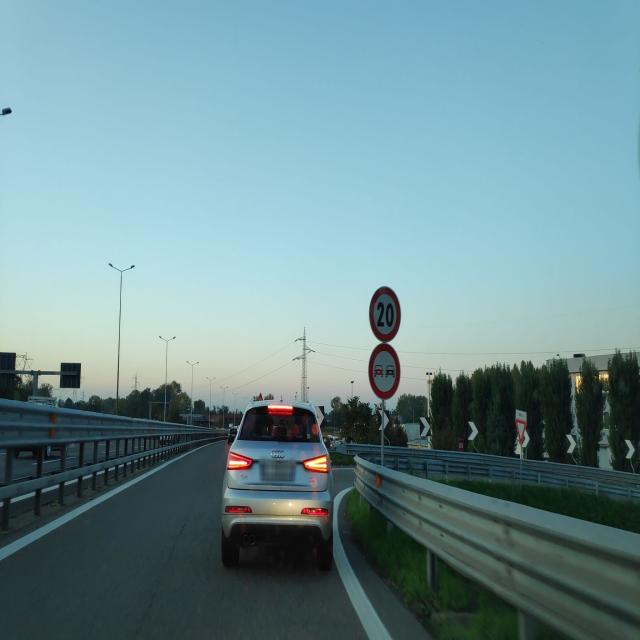car: (221, 396, 334, 570)
